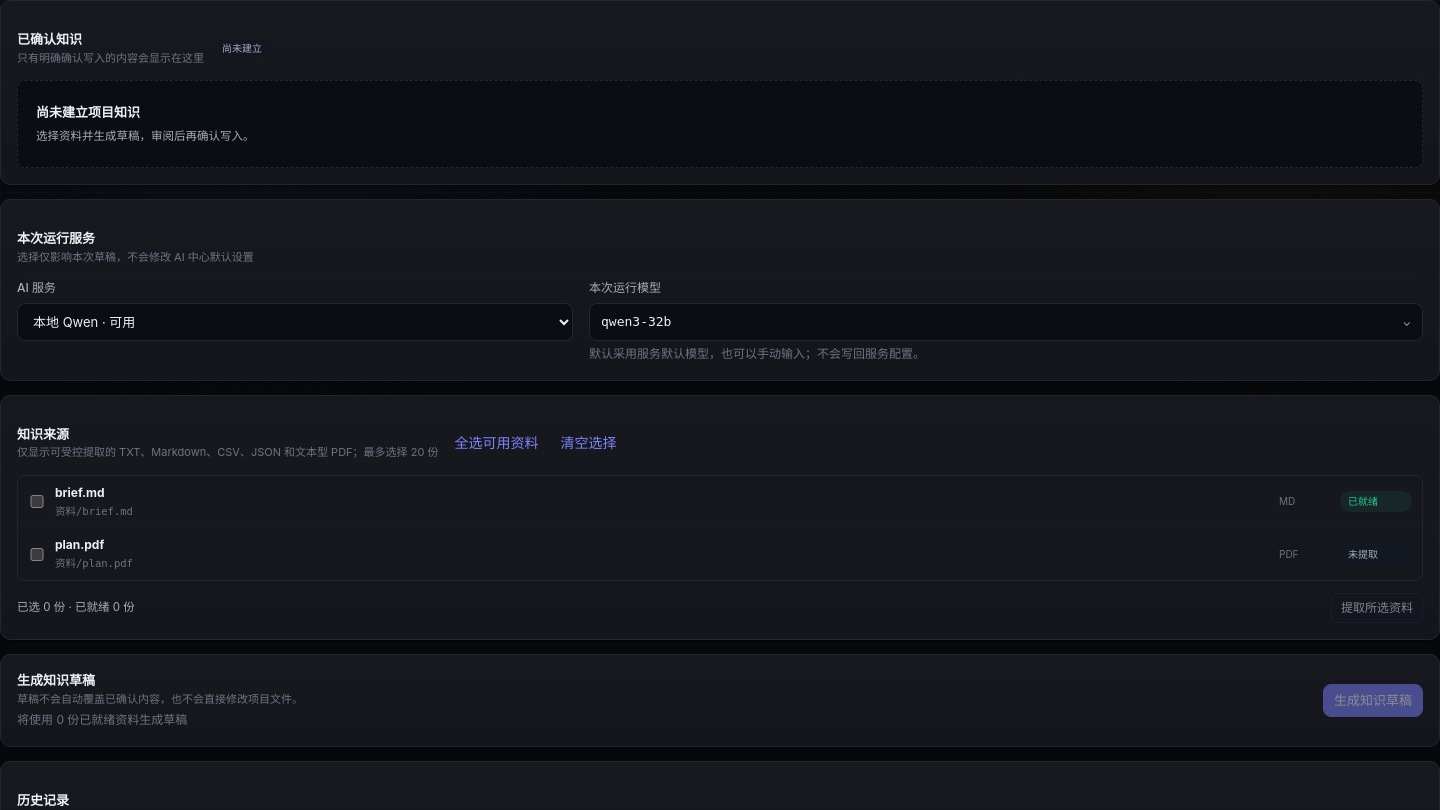
Test case: Phase 10.3 project knowledge › shows only supported files and tracks source selection and extraction states
Check: the text "brief.md" is shown, box top-left (55, 485), bottom-right (104, 500)
Check: the text "plan.pdf" is shown, box top-left (55, 537), bottom-right (104, 552)
Click the button "全选可用资料".
click(496, 443)  # box top-left (448, 431), bottom-right (544, 454)
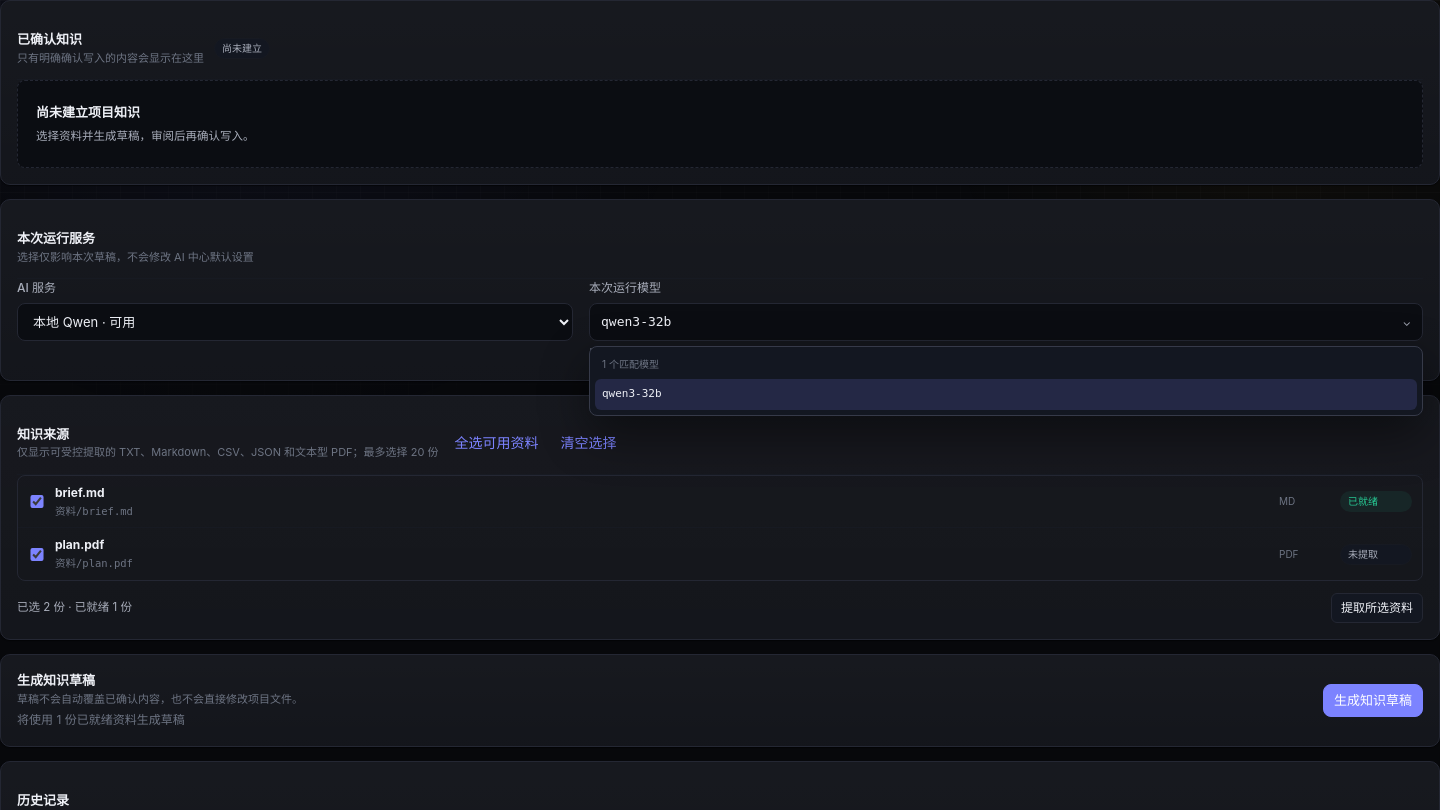
Click the button "提取所选资料".
click(1377, 608)  # box top-left (1331, 593), bottom-right (1423, 623)
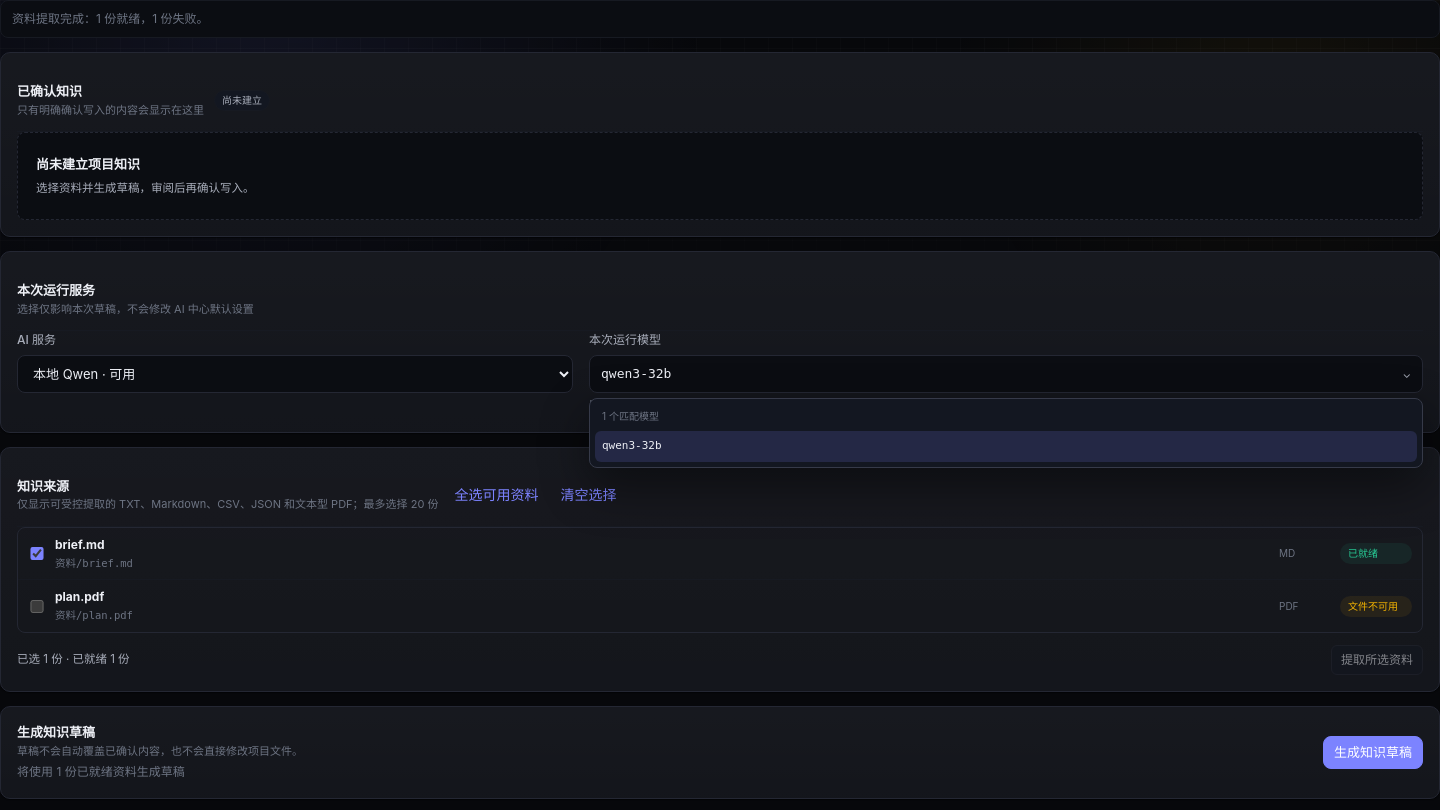
Check: the text "文件不可用" is shown, box top-left (1340, 596), bottom-right (1412, 617)
Check: the text "资料提取完成：1 份就绪，1 份失败。" is shown, box top-left (0, 0), bottom-right (1439, 38)
